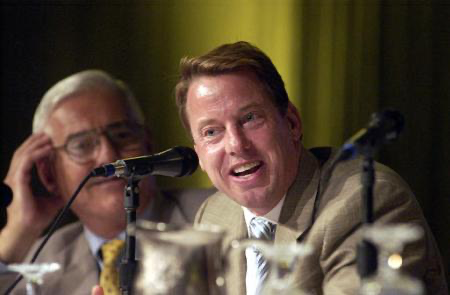Face: (39, 93, 153, 231), (183, 86, 295, 207)
